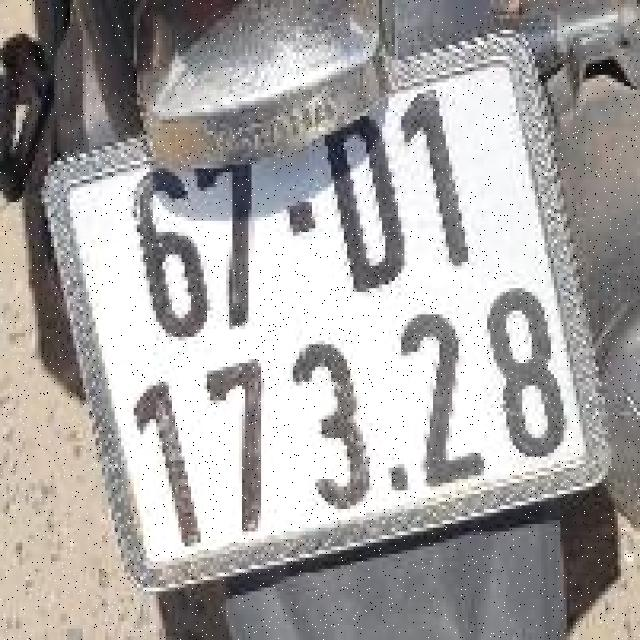1: (387, 73, 490, 287), (122, 367, 220, 563)
2: (390, 299, 498, 501)
3: (281, 323, 385, 517)
6: (119, 148, 219, 351)
7: (181, 141, 273, 344), (196, 344, 291, 540)
8: (475, 276, 579, 471)
D: (304, 102, 419, 305)
